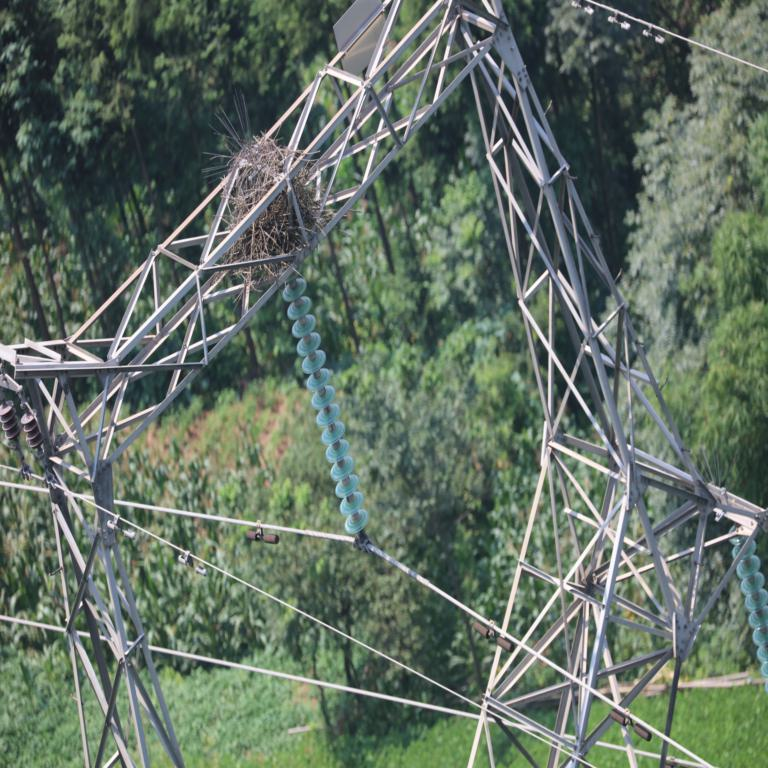nest: (226, 136, 320, 285)
